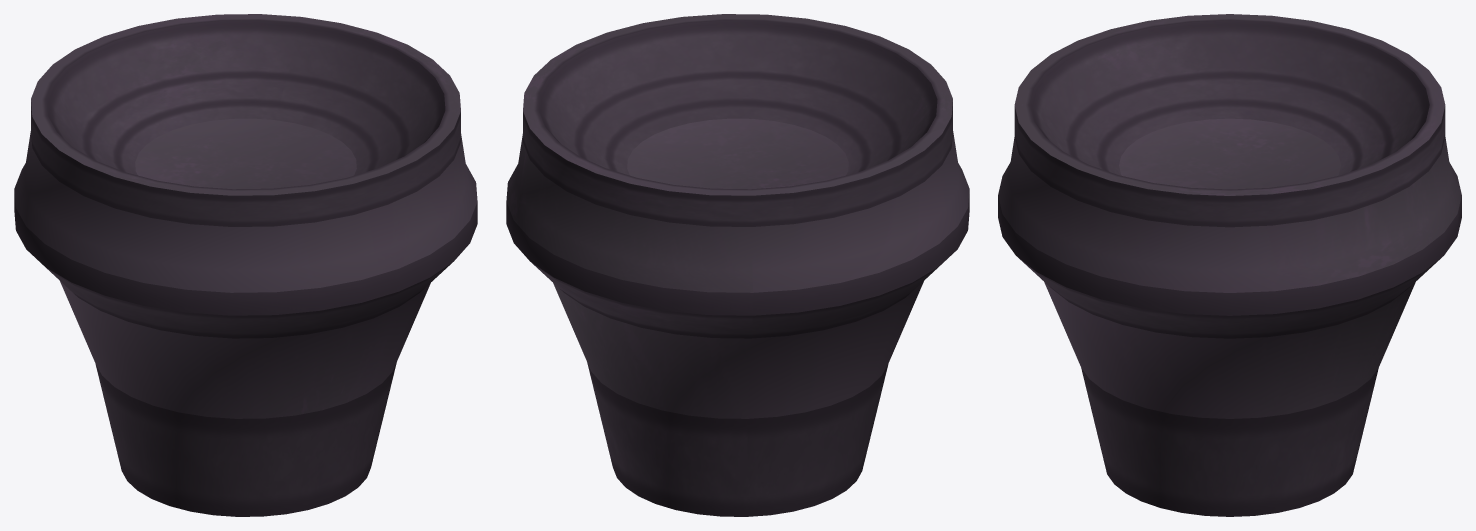
File: PRM Orb Vase.fbx
3 views of the same model, side by side, from view 1: azimuth 30°, elevation 25°; view 2: azimuth 150°, elevation 25°; view 3: azimuth 270°, elevation 25° (orthographic).
Parts seen in each view (by area): view 1: Orb Holder; view 2: Orb Holder; view 3: Orb Holder.
Part boxes in pixels (bbox=[...]): Orb Holder: bbox=[14, 14, 477, 516]; Orb Holder: bbox=[506, 14, 969, 516]; Orb Holder: bbox=[998, 14, 1461, 516].
Size of the model in its own units: 797 by 680 by 797.
